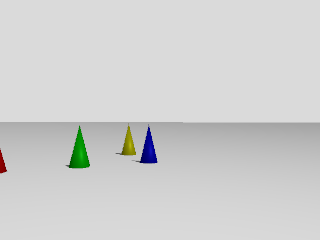blue: (138, 123, 158, 167)
green: (69, 124, 90, 170)
red: (0, 143, 8, 175)
yellow: (118, 122, 137, 158)
